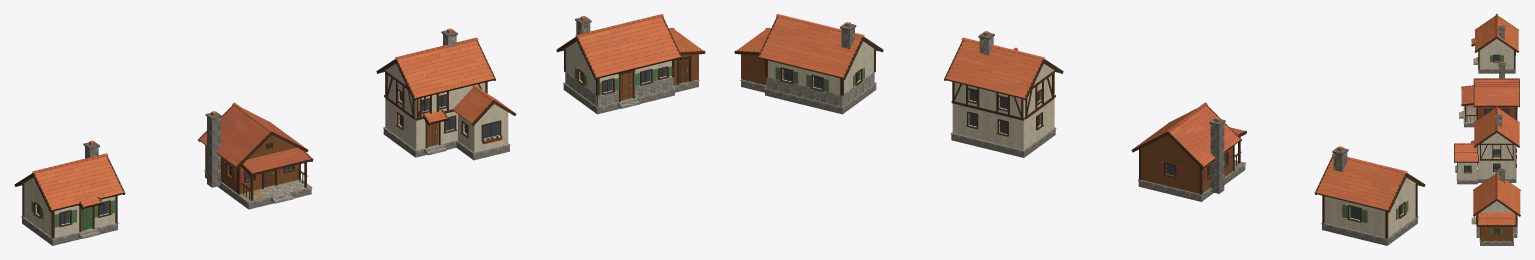
The model's file is residential_kit.glb.
The picture shows the model from 3 angles, left to right: view 1: azimuth 30°, elevation 25°; view 2: azimuth 150°, elevation 25°; view 3: azimuth 270°, elevation 25°; orthographic projection. The views are drawn at different scales.
Visible parts, largest first — view 1: KIT_HOUSE_C_Mesh, KIT_HOUSE_D_Mesh, KIT_HOUSE_B_Mesh, KIT_HOUSE_A_Mesh; view 2: KIT_HOUSE_C_Mesh, KIT_HOUSE_D_Mesh, KIT_HOUSE_B_Mesh, KIT_HOUSE_A_Mesh; view 3: KIT_HOUSE_C_Mesh, KIT_HOUSE_D_Mesh, KIT_HOUSE_B_Mesh, KIT_HOUSE_A_Mesh.
Boxes of the visible parts, bbox=[...] form: KIT_HOUSE_C_Mesh: bbox=[376, 28, 516, 160]; KIT_HOUSE_D_Mesh: bbox=[556, 14, 705, 114]; KIT_HOUSE_B_Mesh: bbox=[198, 102, 313, 209]; KIT_HOUSE_A_Mesh: bbox=[14, 140, 125, 245]; KIT_HOUSE_C_Mesh: bbox=[944, 31, 1063, 157]; KIT_HOUSE_D_Mesh: bbox=[734, 14, 883, 114]; KIT_HOUSE_B_Mesh: bbox=[1131, 102, 1246, 201]; KIT_HOUSE_A_Mesh: bbox=[1314, 146, 1425, 245]; KIT_HOUSE_C_Mesh: bbox=[1454, 106, 1519, 184]; KIT_HOUSE_D_Mesh: bbox=[1471, 168, 1520, 245]; KIT_HOUSE_B_Mesh: bbox=[1459, 61, 1519, 127]; KIT_HOUSE_A_Mesh: bbox=[1471, 14, 1519, 73].
Size of the model in its own units: 53.79 by 8.04 by 7.82.
Materials: 5 (3 with a texture image).
